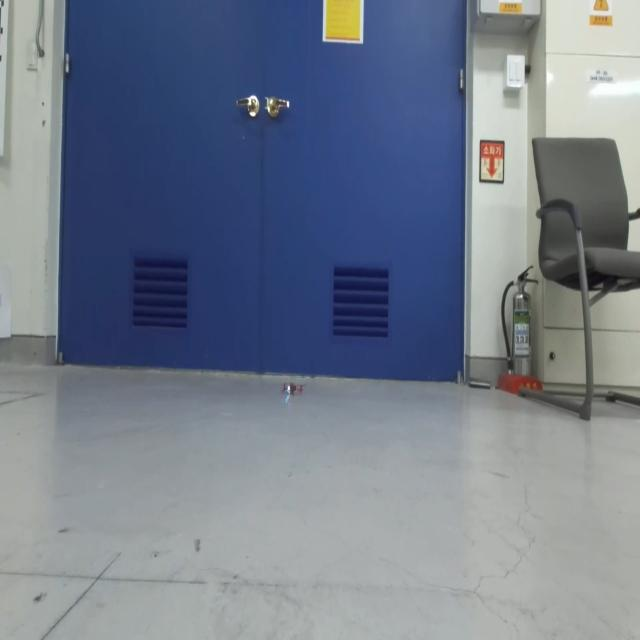crazyflie: (280, 376, 306, 403)
